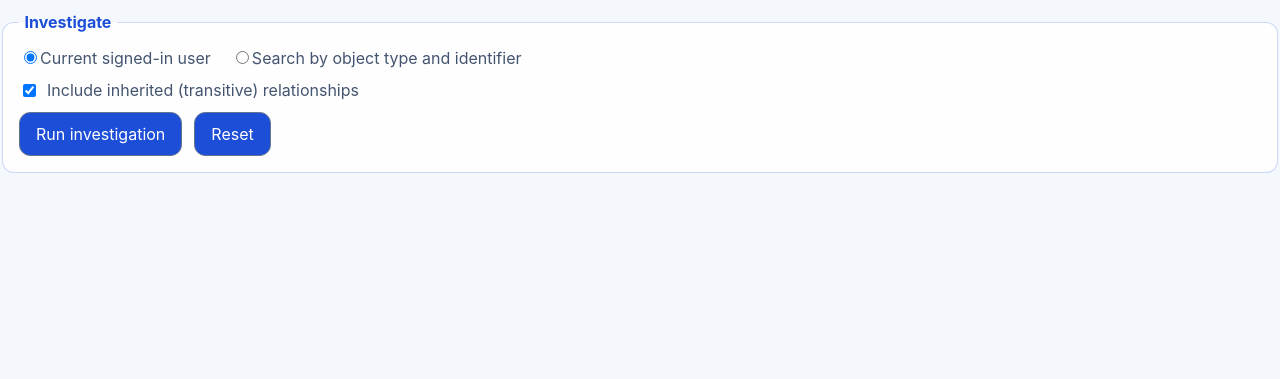
Test: QueryPanel › validates that a search target is provided before querying
Step 1. Click the radio button labelled "Search by object type and identifier" → (242, 58), box [236,51,249,64]
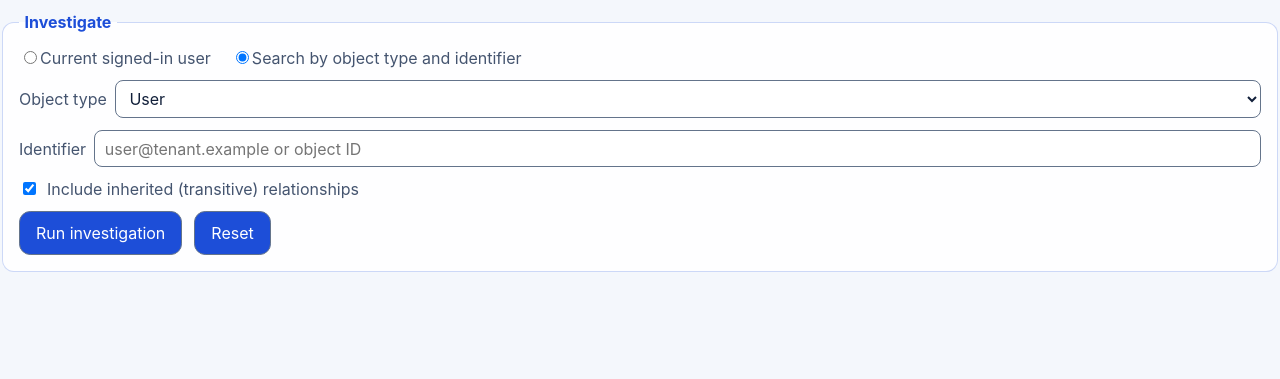
Step 2. Submit the form named "Run investigation"
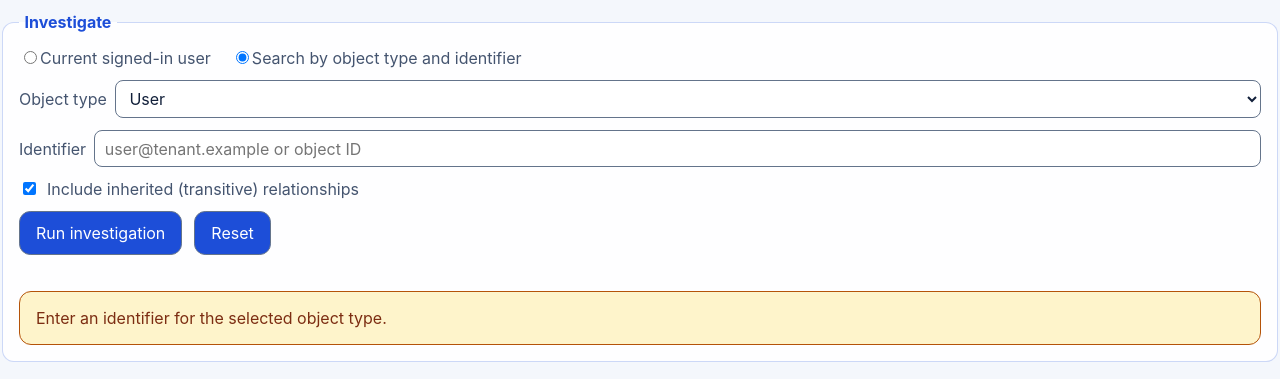
expect the text "Enter an identifier for the selected object type." is shown: met, box [19,291,1261,345]
